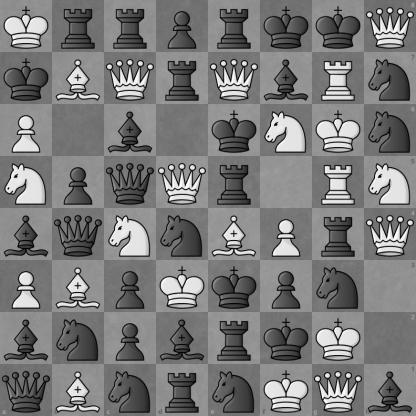B: (52, 364, 104, 416), (53, 53, 104, 104), (53, 261, 104, 312), (209, 209, 260, 260)
K: (260, 364, 312, 416), (1, 1, 52, 52), (157, 261, 208, 312), (313, 105, 364, 156), (313, 313, 364, 364)
N: (364, 156, 416, 209), (1, 157, 52, 208), (105, 209, 156, 260), (261, 105, 312, 156)
P: (1, 105, 52, 156), (1, 261, 52, 312), (261, 209, 312, 260)
Q: (312, 364, 364, 416), (364, 0, 416, 52), (364, 209, 416, 260), (105, 53, 156, 104), (157, 157, 208, 208), (209, 53, 260, 104)
R: (313, 53, 364, 104), (313, 157, 364, 208)
b: (364, 364, 416, 416), (1, 209, 52, 260), (1, 313, 52, 364), (105, 105, 156, 156), (157, 313, 208, 364), (261, 53, 312, 104)
board: (0, 0, 415, 415)
k: (1, 53, 52, 104), (209, 105, 260, 156), (209, 261, 260, 312), (261, 1, 312, 52), (261, 313, 312, 364), (313, 1, 364, 52)
n: (104, 364, 156, 416), (364, 52, 416, 104), (364, 104, 416, 156), (209, 364, 260, 416), (53, 313, 104, 364), (157, 209, 208, 260), (313, 261, 364, 312)
p: (53, 157, 104, 208), (105, 261, 156, 312), (105, 313, 156, 364), (157, 1, 208, 52), (261, 261, 312, 312)
q: (0, 364, 52, 416), (53, 209, 104, 260), (105, 157, 156, 208)
r: (156, 364, 209, 416), (53, 1, 104, 52), (105, 1, 156, 52), (157, 53, 208, 104), (209, 1, 260, 52), (209, 157, 260, 208), (209, 313, 260, 364), (313, 209, 364, 260)
